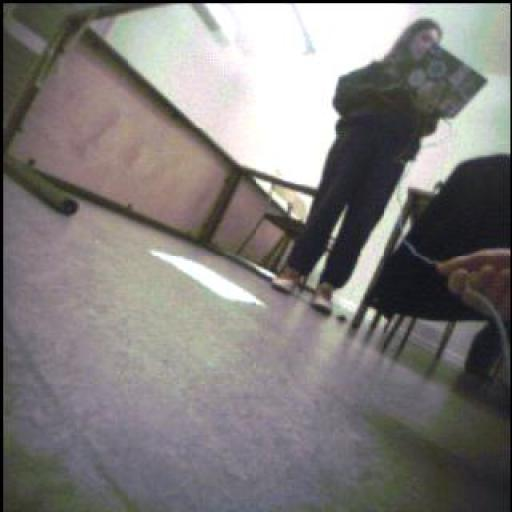Pad: (151, 244, 269, 309)
